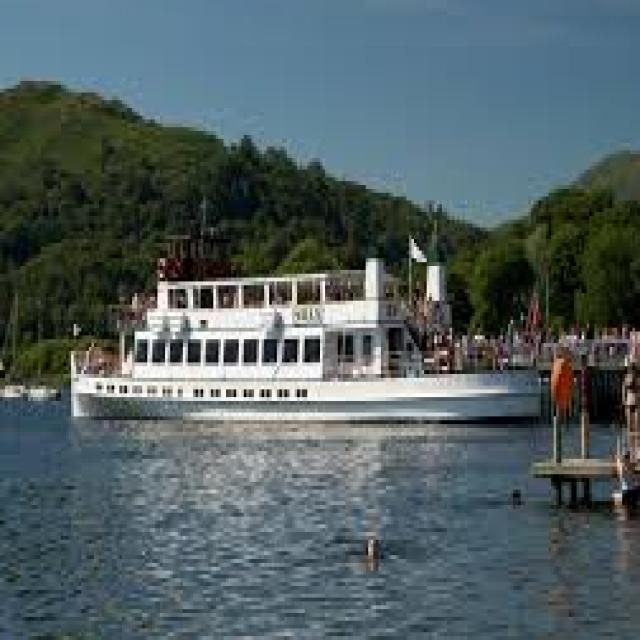passenger ship: (73, 233, 542, 454)
